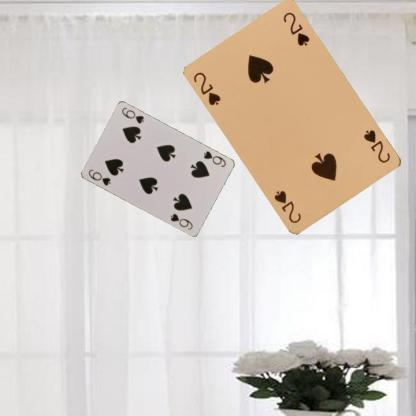2s: (361, 127, 393, 165), (192, 69, 223, 107)
6s: (86, 167, 112, 187), (201, 148, 227, 168)
